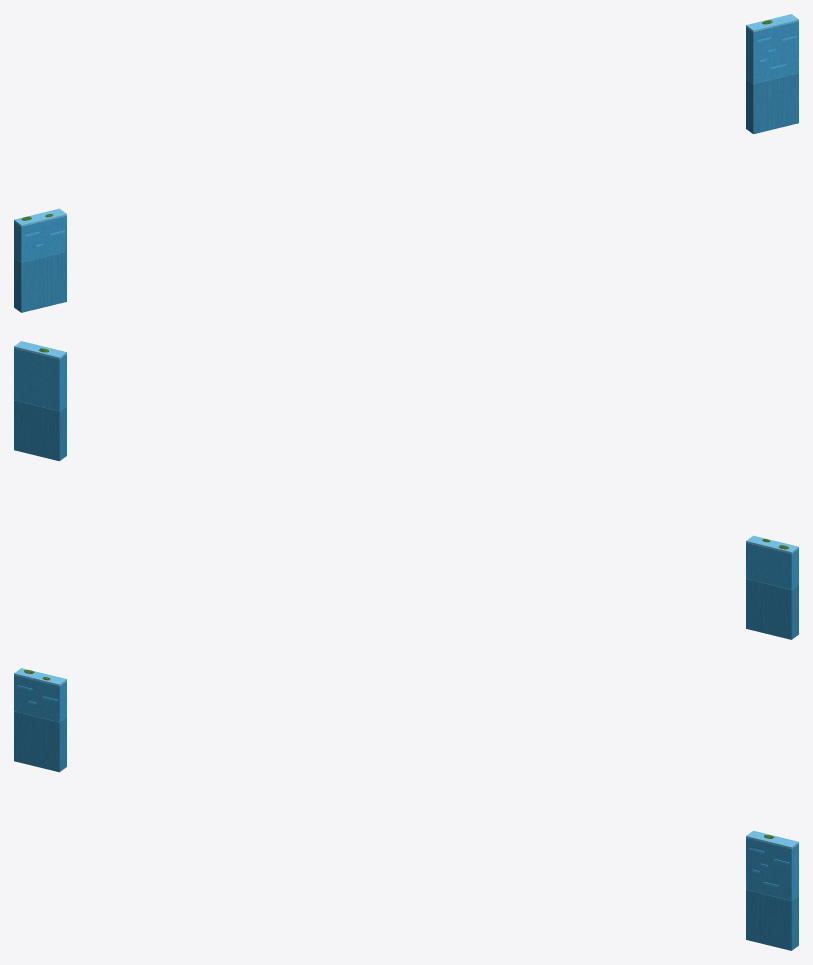
The model's file is water_level1.glb.
3 views of the same model, one above another, from view 1: azimuth 30°, elevation 25°; view 2: azimuth 150°, elevation 25°; view 3: azimuth 330°, elevation 25° (orthographic).
Parts seen in each view (by area): view 1: water_L1_02, water_L1_01; view 2: water_L1_02, water_L1_01; view 3: water_L1_02, water_L1_01.
Part boxes in pixels (x1=…): water_L1_02: x1=746, y1=14, x2=798, y2=134; water_L1_01: x1=14, y1=208, x2=66, y2=312; water_L1_02: x1=14, y1=341, x2=66, y2=461; water_L1_01: x1=746, y1=535, x2=798, y2=639; water_L1_02: x1=746, y1=830, x2=798, y2=950; water_L1_01: x1=14, y1=668, x2=66, y2=772.
Bounding box in the file's own units: 61.19 × 7.86 × 1.04.
Materials: 5 (5 with a texture image).
